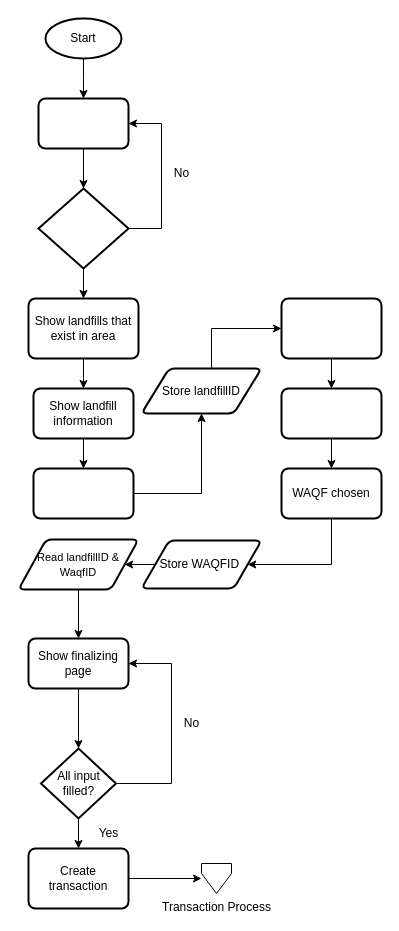
Some shapes in this 399 by 931 pixel diagram are drawn without their labels. Each missing label, with the box of its shape:
Area exist?: (37, 187, 129, 269)
Choose landfil Area: (37, 97, 129, 149)
Landfill chosen: (32, 467, 134, 519)
Show WAQF detailed information: (280, 387, 382, 439)
Show WAQFs in Malaysia: (280, 297, 382, 359)
